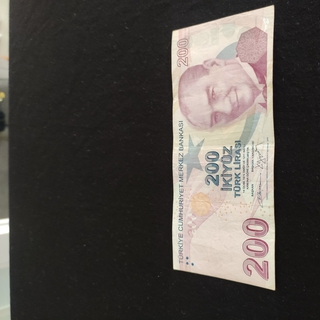200TLFront: (170, 4, 275, 291)
